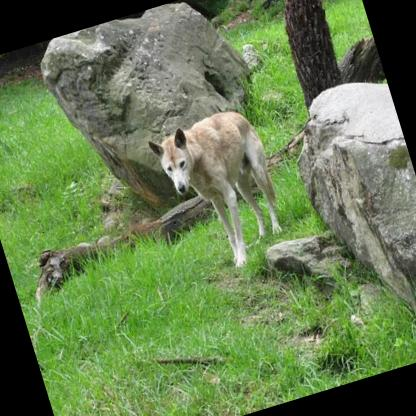dingo: (144, 100, 294, 282)
